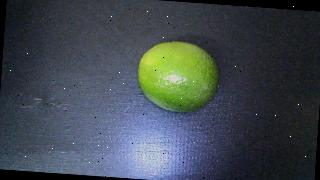EXPORTACION: (135, 38, 220, 114)
